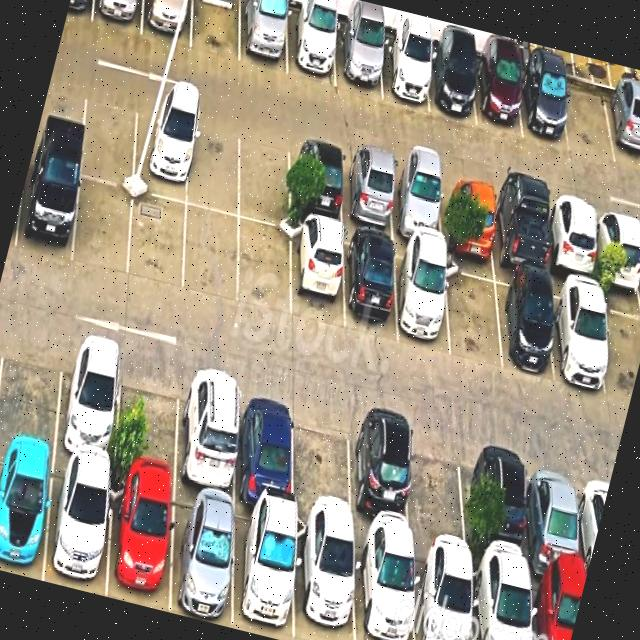empty: (104, 378, 188, 492), (278, 423, 362, 531), (0, 341, 71, 464), (434, 268, 513, 366), (180, 114, 252, 215), (65, 182, 140, 276), (120, 188, 192, 284), (234, 125, 304, 222), (70, 95, 143, 186), (226, 216, 296, 308), (555, 63, 623, 155), (175, 204, 244, 291), (183, 0, 254, 62)
occupied: (92, 486, 181, 608), (158, 502, 246, 625), (221, 516, 306, 640), (157, 394, 246, 511), (33, 473, 117, 592), (334, 427, 419, 542), (43, 366, 129, 479), (223, 412, 302, 530), (282, 535, 370, 640), (458, 448, 535, 563), (395, 441, 474, 552), (546, 288, 622, 400), (513, 470, 591, 578), (343, 546, 428, 640), (387, 249, 463, 354), (492, 276, 566, 382), (125, 96, 202, 196), (434, 165, 506, 269), (486, 184, 558, 288), (338, 234, 408, 338), (278, 224, 352, 321), (277, 134, 352, 228), (0, 457, 57, 578), (536, 199, 604, 300), (403, 559, 485, 640), (421, 24, 488, 123), (14, 168, 84, 260), (376, 10, 441, 109), (468, 37, 534, 134), (516, 44, 580, 144), (330, 0, 395, 94), (382, 160, 448, 251), (459, 573, 548, 640), (584, 208, 640, 310), (336, 150, 400, 236), (281, 0, 347, 82), (231, 0, 301, 75), (599, 65, 640, 158), (137, 0, 201, 40), (90, 0, 152, 30)
